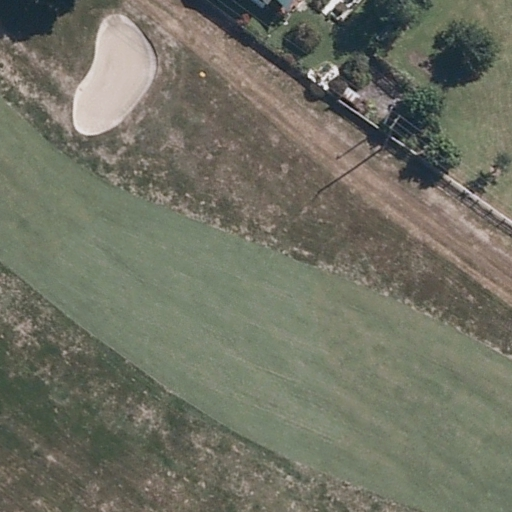DT: (384, 107, 404, 144)
